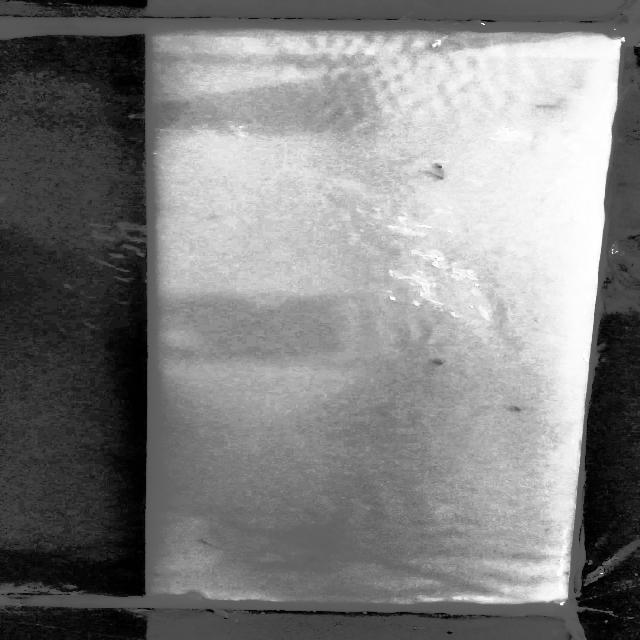shrimp: (430, 158, 482, 183), (426, 354, 468, 376), (192, 535, 234, 556), (140, 566, 187, 582), (504, 398, 538, 420), (296, 548, 325, 566)
